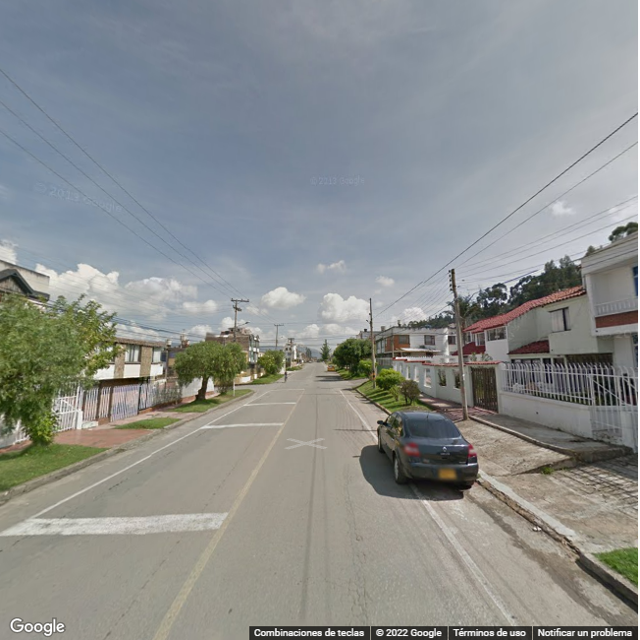D00: (344, 570, 355, 617), (361, 566, 370, 622)
